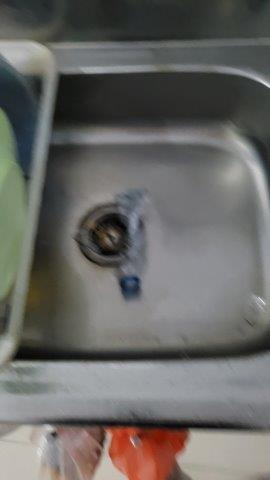botolplastik: (113, 187, 149, 302)
